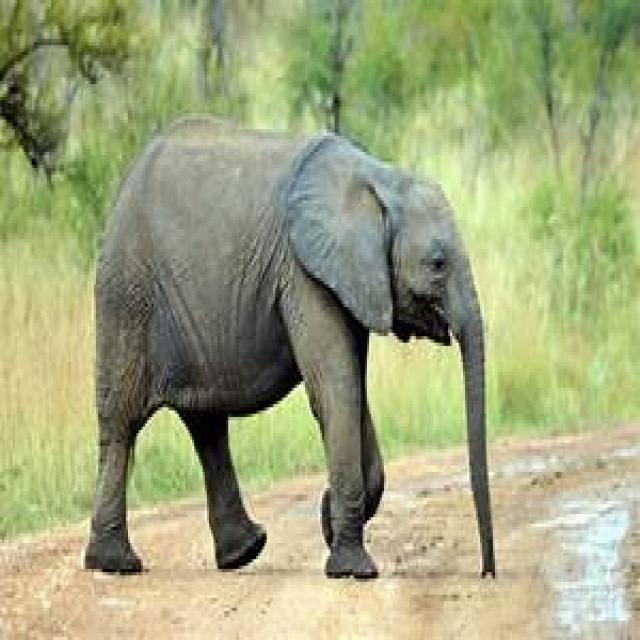elephant: (85, 116, 497, 579)
